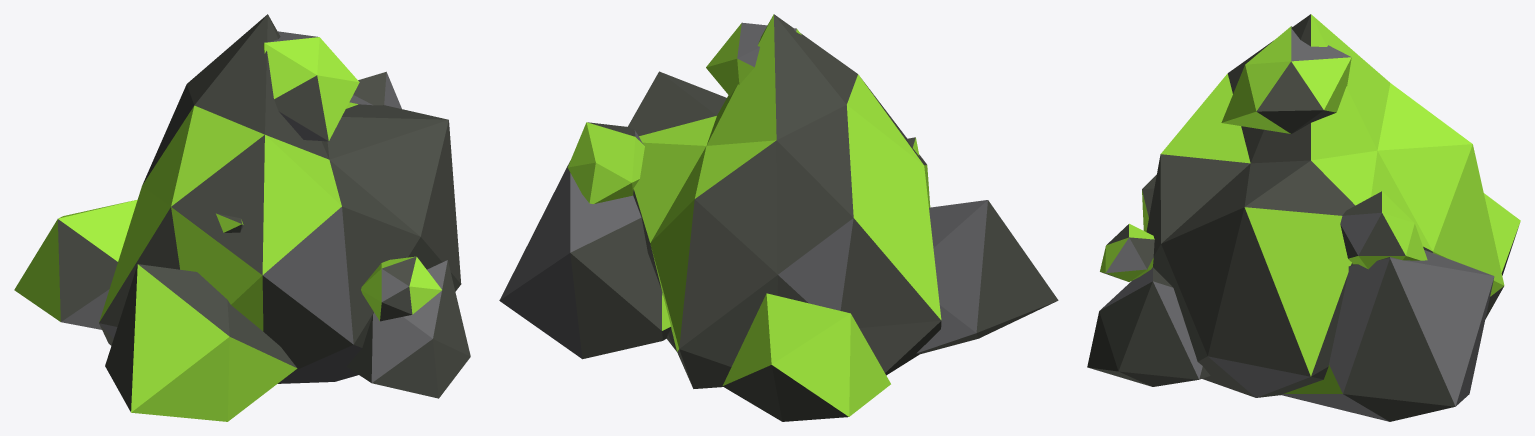
Rendered from uranium_ore_b.obj.
The picture shows the model from 3 angles, left to right: view 1: azimuth 30°, elevation 25°; view 2: azimuth 150°, elevation 25°; view 3: azimuth 270°, elevation 25°; orthographic projection. The views are drawn at different scales.
Size of the model in its own units: 1.24 by 0.9027 by 1.1.
